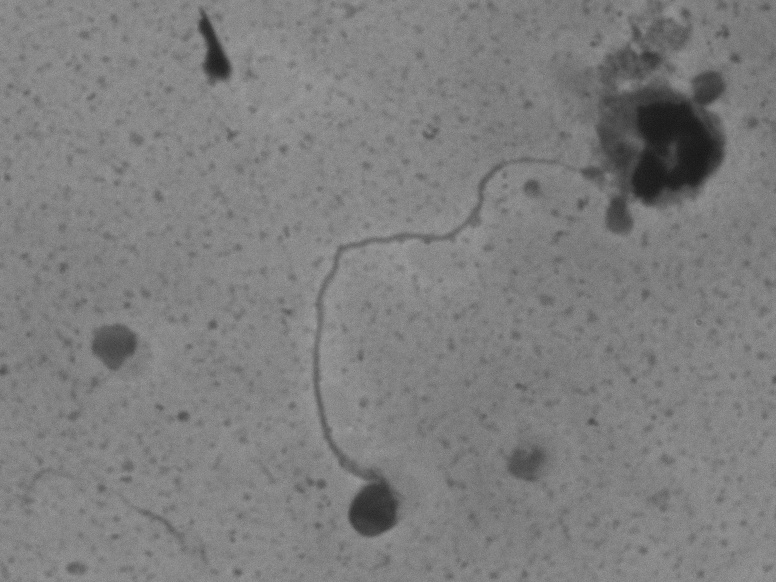Abnormal: (240, 121, 607, 542)
